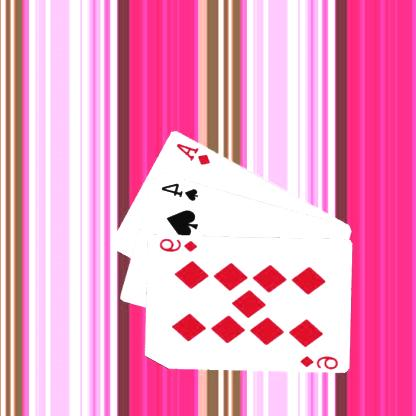4S: (159, 180, 201, 202)
9D: (158, 236, 200, 253), (299, 353, 341, 369)
AD: (175, 140, 213, 166)
